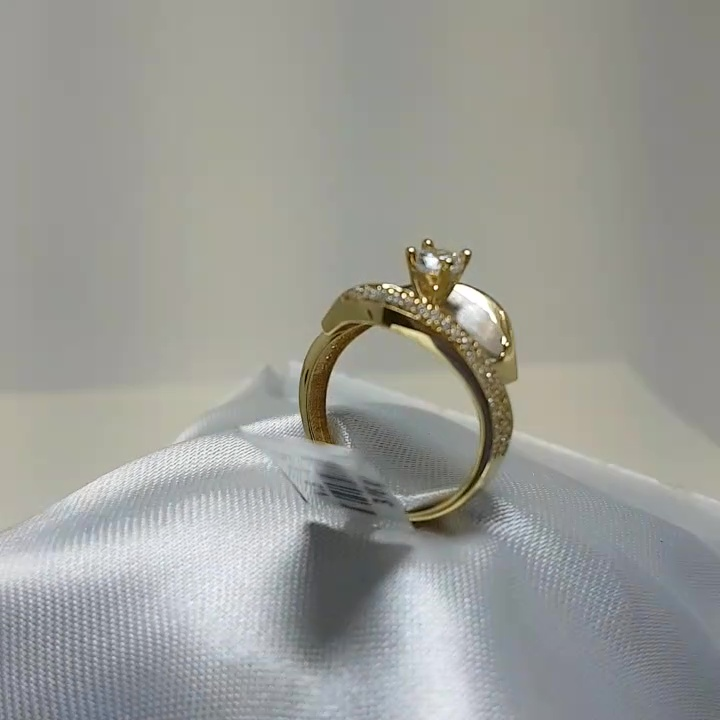Ring 6: (298, 233, 527, 535)
